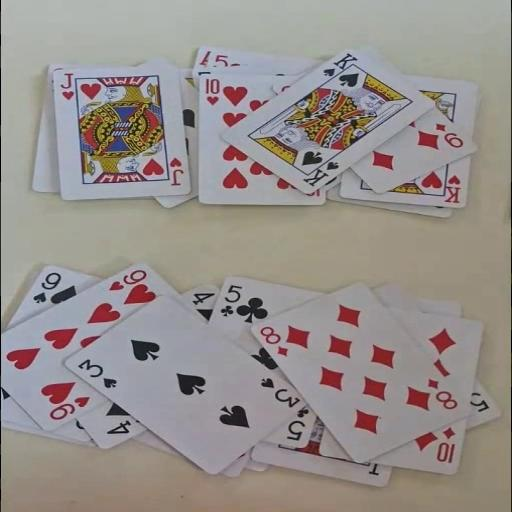10: (434, 429, 458, 464)
3: (256, 375, 302, 409), (74, 357, 119, 389)
4: (104, 418, 133, 435)
5: (217, 282, 244, 317)
8: (425, 376, 460, 410), (256, 324, 290, 357)
9: (45, 394, 92, 422), (29, 270, 63, 304), (105, 267, 149, 292), (432, 121, 466, 149)
J: (167, 155, 185, 186), (58, 72, 76, 102)
K: (299, 159, 341, 187), (320, 50, 359, 78), (442, 172, 463, 204)
